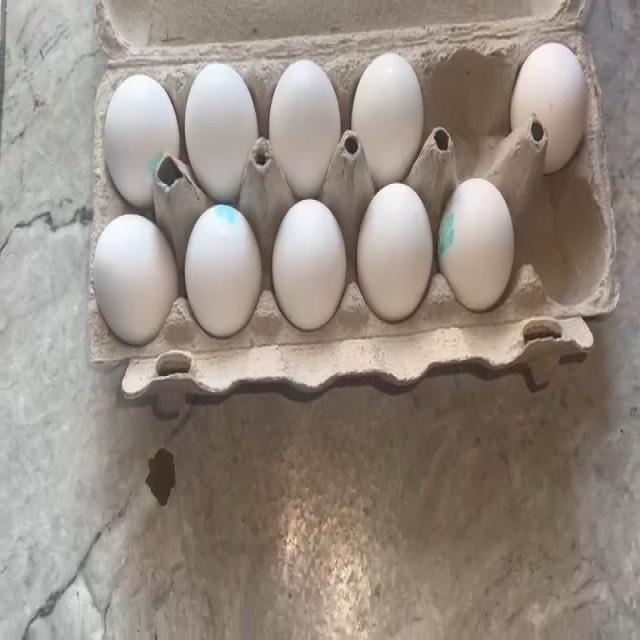Egg: (178, 213, 260, 324), (104, 77, 176, 196), (277, 205, 345, 322), (360, 196, 432, 306), (96, 230, 170, 336), (276, 61, 336, 179), (190, 64, 248, 182), (448, 195, 518, 286), (356, 51, 414, 155)
